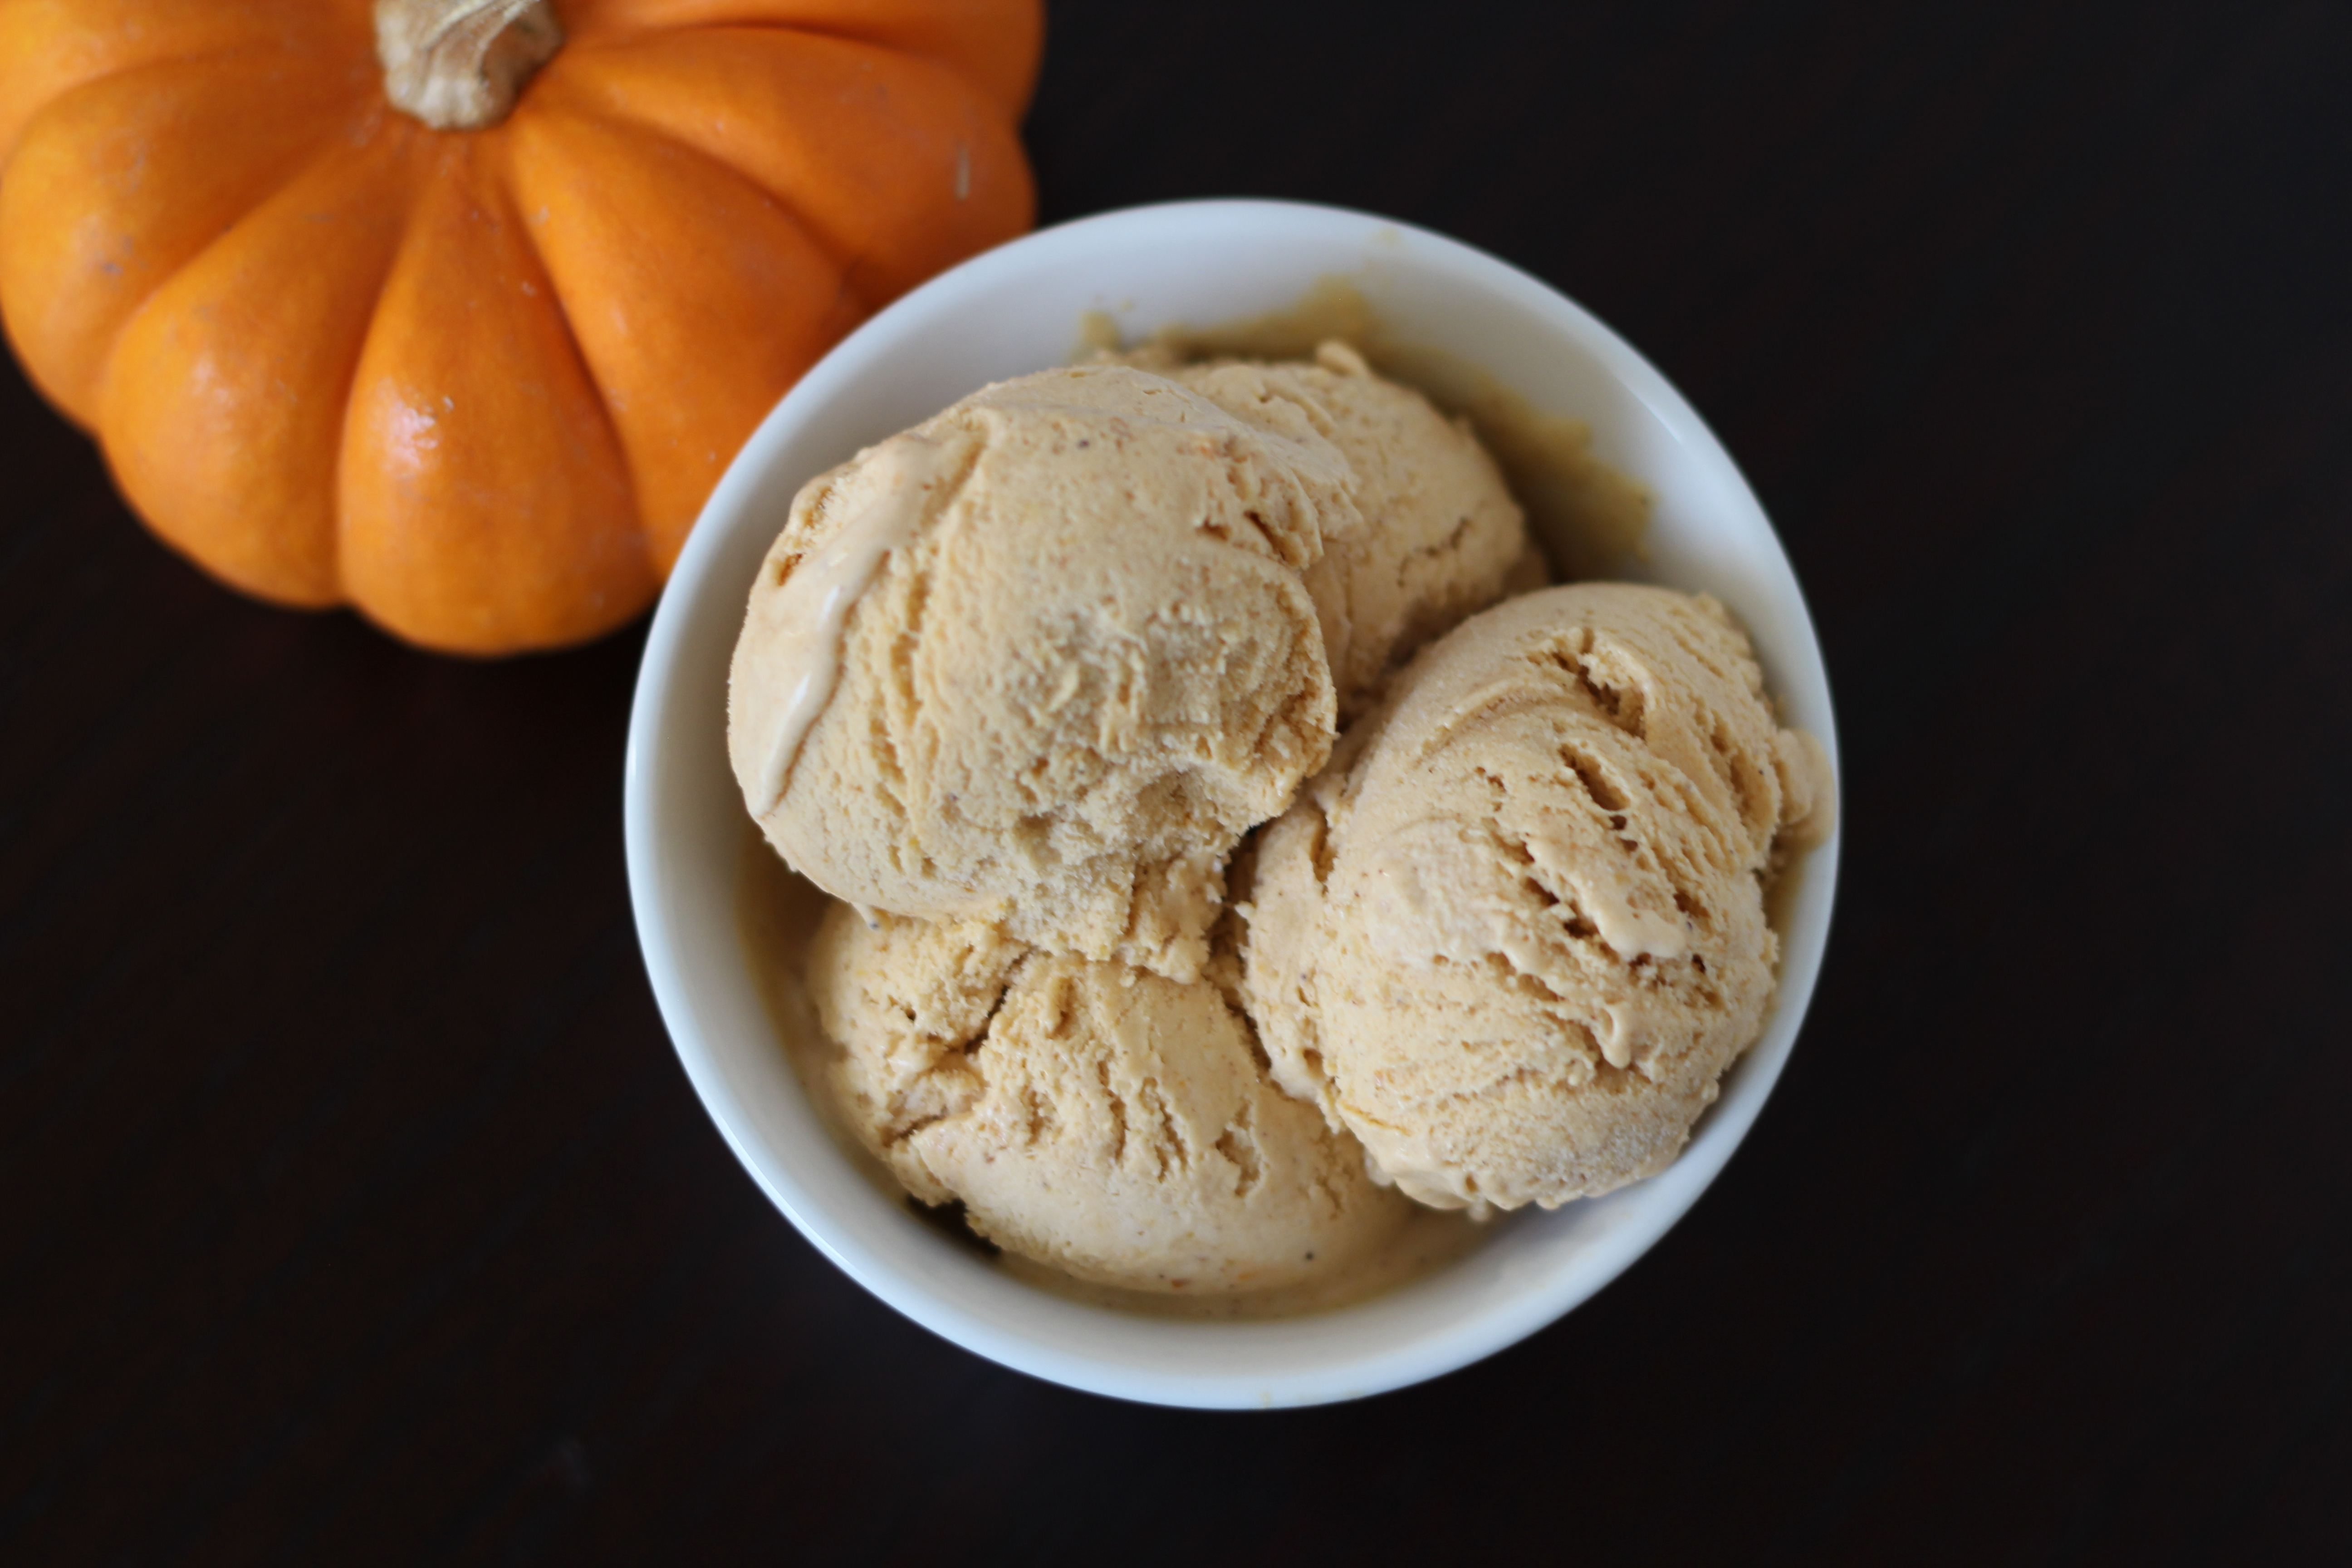ice-cream: (728, 362, 1827, 1318), (1244, 583, 1830, 1220), (726, 369, 1337, 978), (807, 910, 1442, 1311), (1195, 371, 1547, 688)
